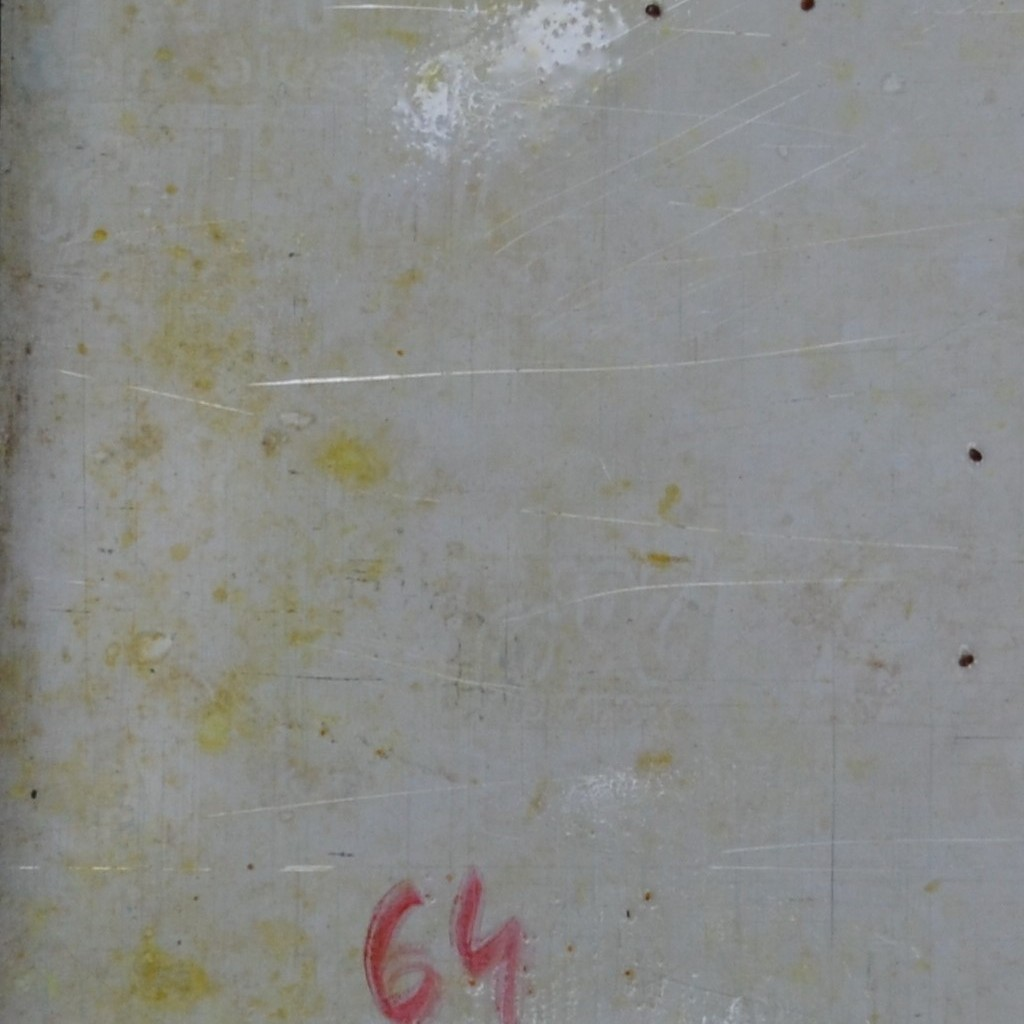varroa: (965, 442, 984, 466), (957, 648, 975, 671), (642, 1, 662, 20), (799, 1, 818, 12)
